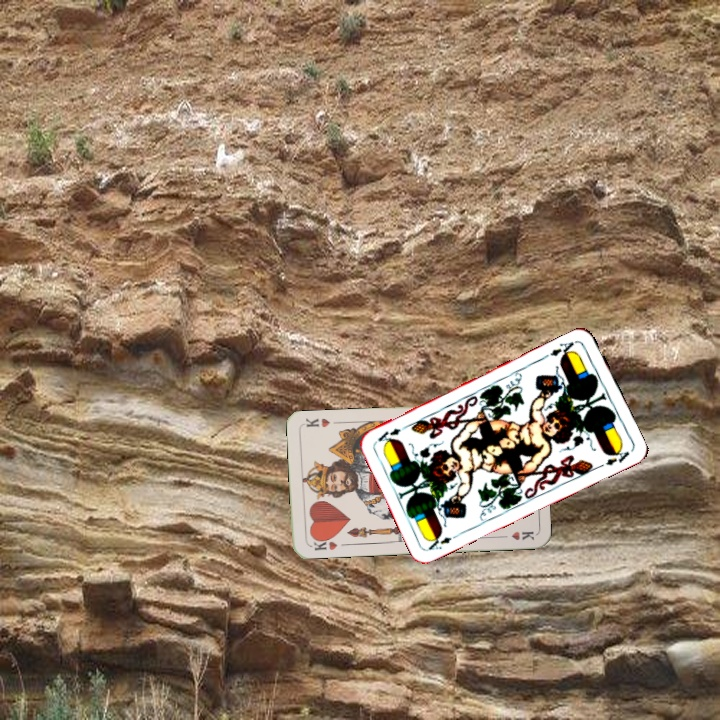EA: (424, 529, 463, 553), (546, 337, 579, 361)
HK: (309, 533, 340, 553)
